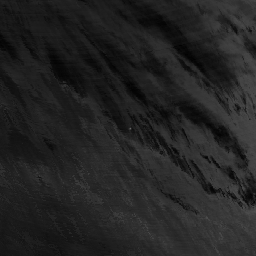Target: (128, 126, 131, 130)
